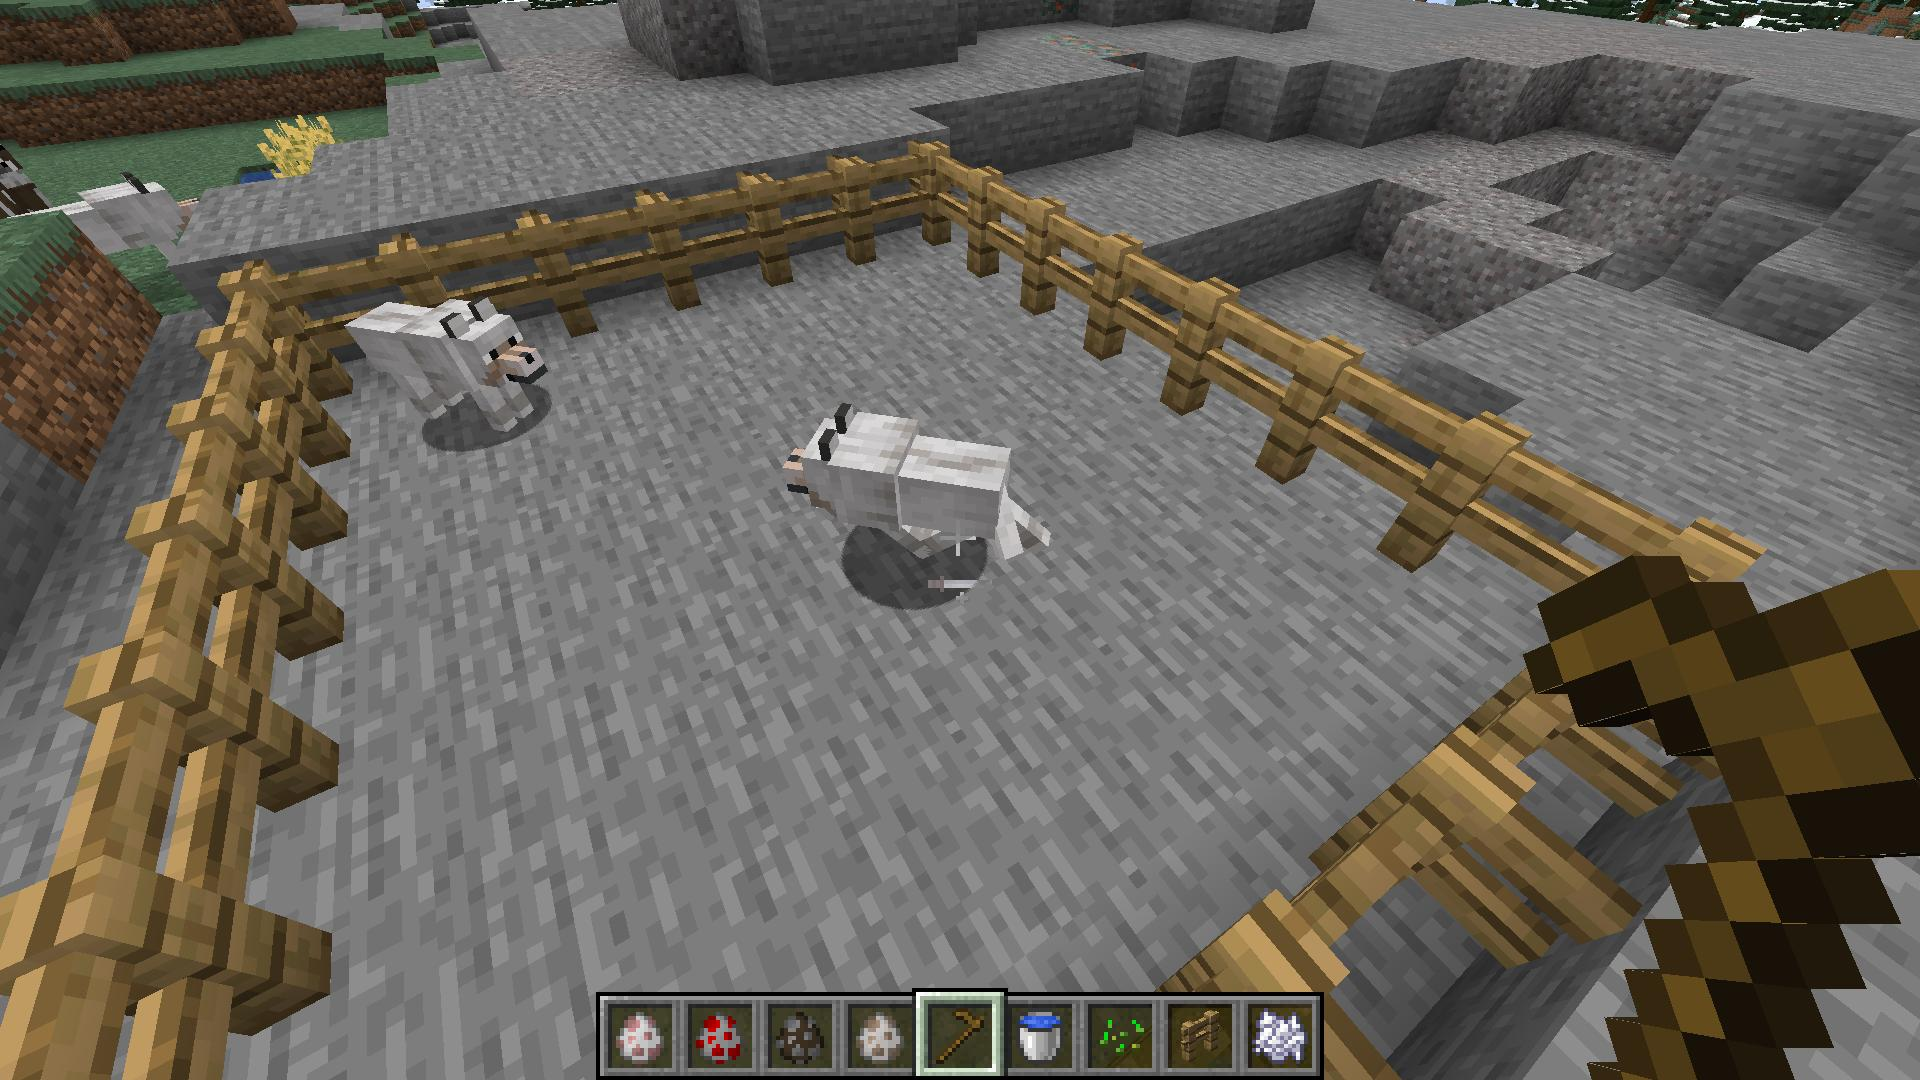wolf: (775, 397, 1059, 578), (344, 290, 549, 440), (80, 169, 204, 253)
